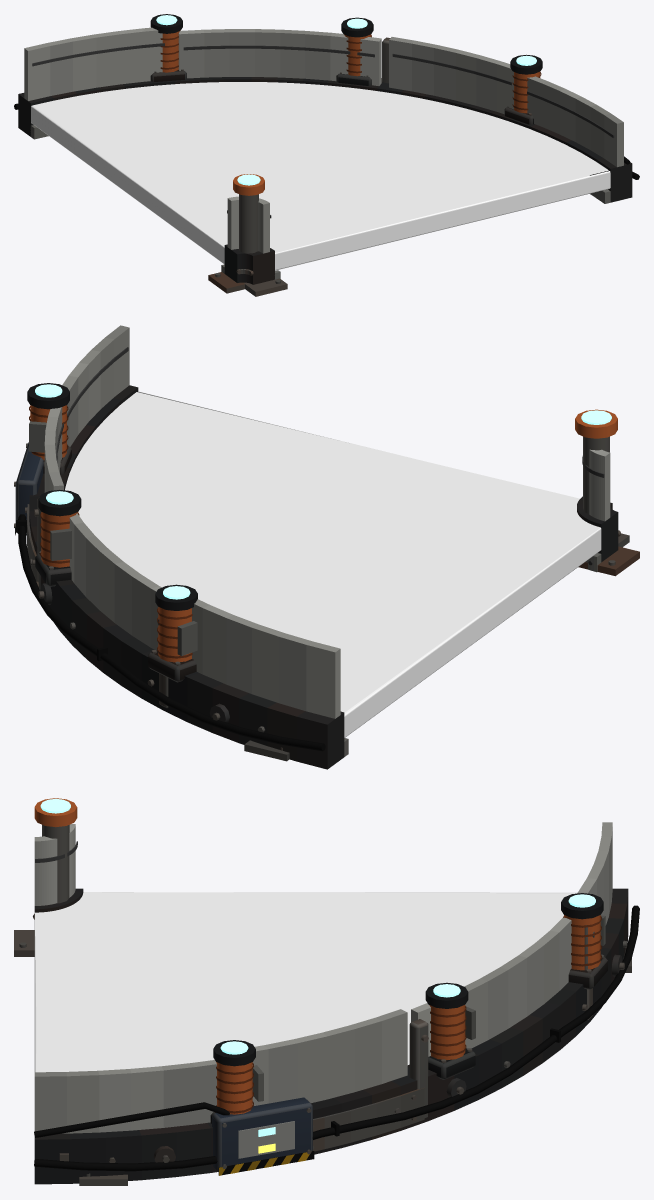
File: conveyor_mag_turn_left.glb
3 renders of one model, top to bottom at view 1: azimuth 30°, elevation 25°; view 2: azimuth 150°, elevation 25°; view 3: azimuth 270°, elevation 25°, orthographic. The views are drawn at different scales.
Parts seen in each view (by area): view 1: Belt, Body; view 2: Belt, Body; view 3: Body, Belt.
Boxes of the visible parts, x1=… form: Belt: x1=31, y1=82, x2=610, y2=270; Body: x1=14, y1=14, x2=639, y2=296; Belt: x1=65, y1=391, x2=601, y2=737; Body: x1=14, y1=325, x2=639, y2=769; Body: x1=14, y1=798, x2=639, y2=1185; Belt: x1=34, y1=892, x2=576, y2=1072.
Size of the model in its own units: 2.06 by 0.497 by 2.06.
